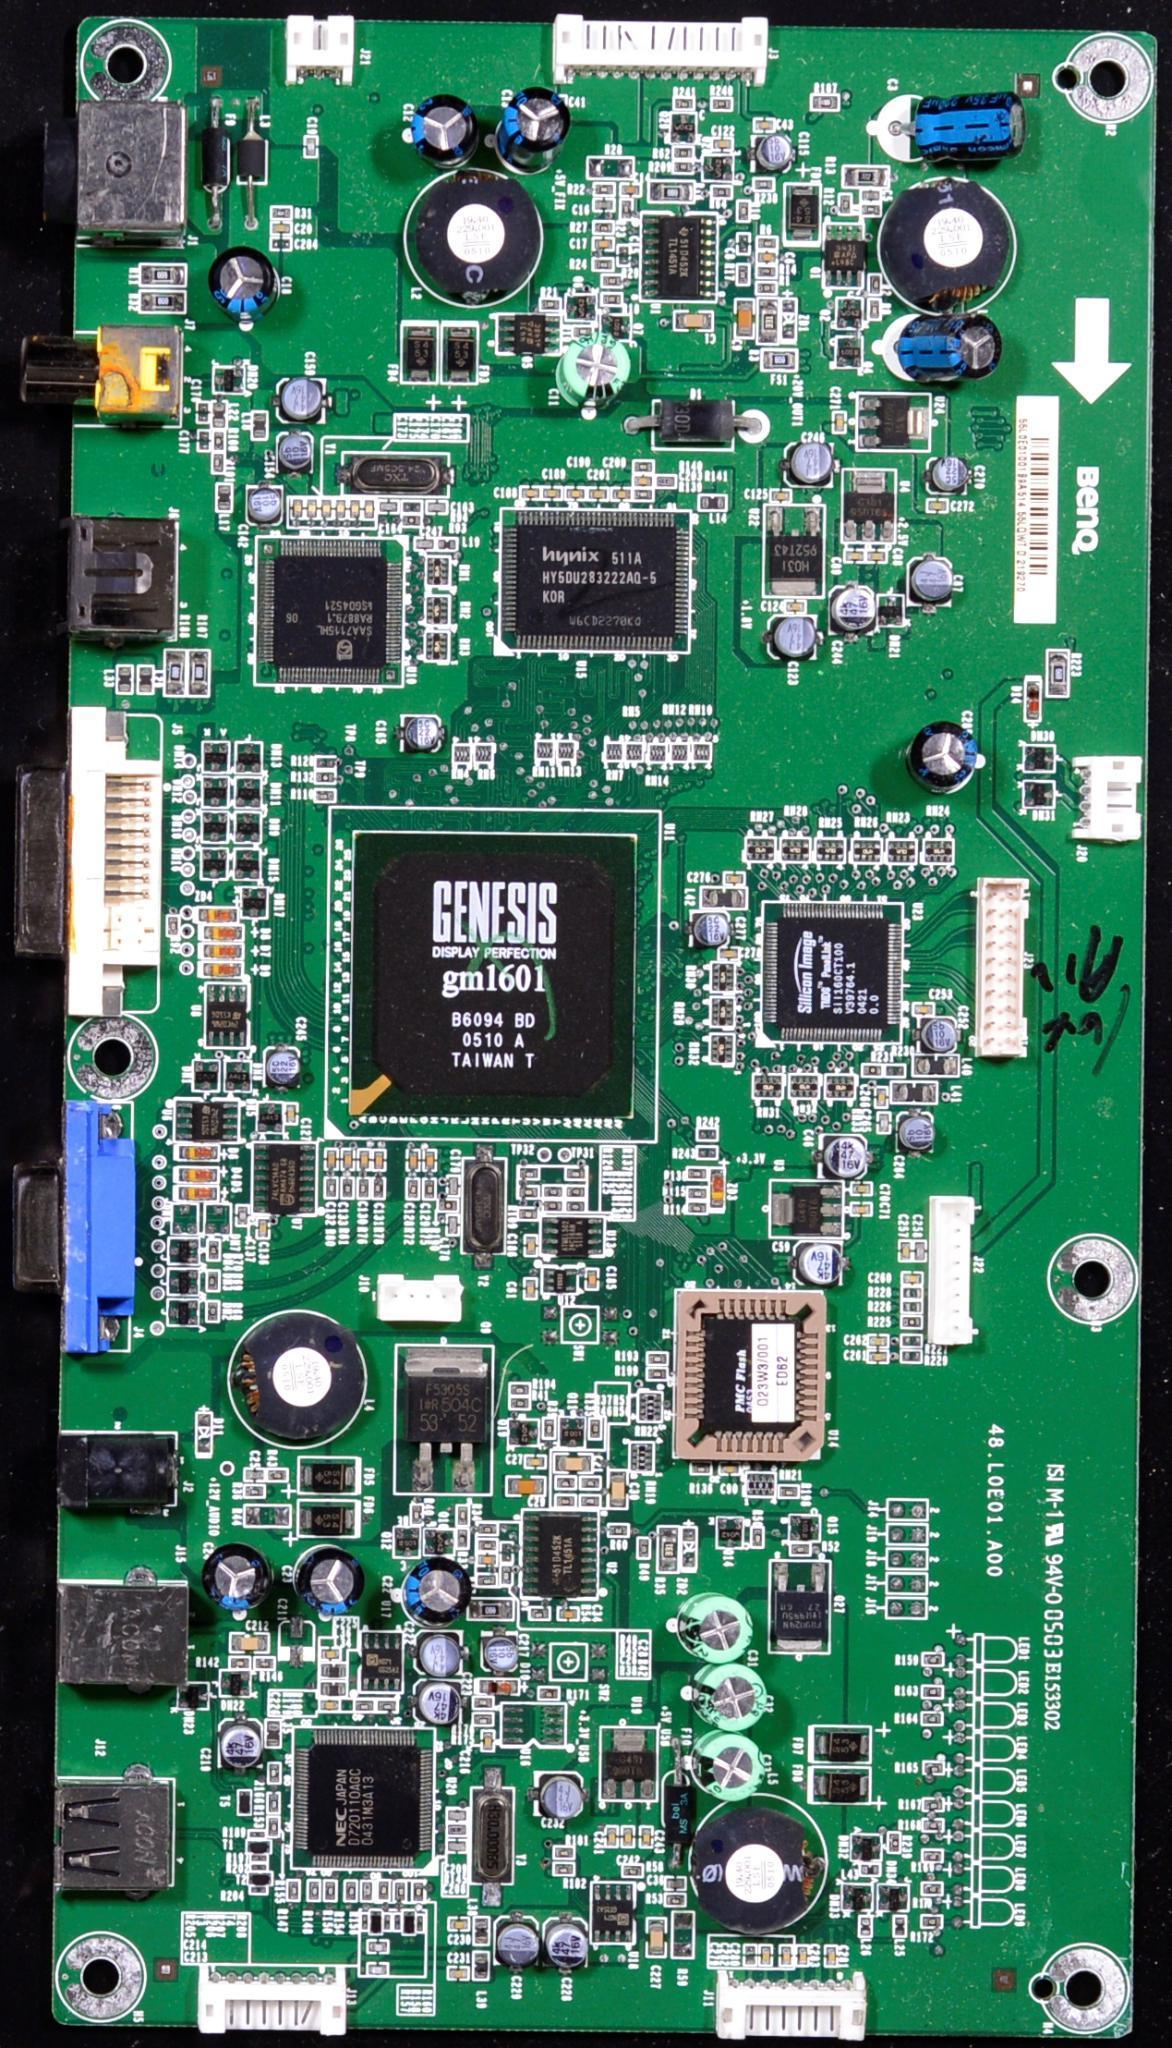Capacitor Jumper: (675, 311, 712, 331), (608, 1470, 626, 1508), (737, 301, 754, 340), (556, 1454, 592, 1471), (509, 1478, 543, 1495), (232, 1636, 267, 1651), (649, 1921, 664, 1957), (293, 1619, 302, 1667), (713, 136, 736, 151), (768, 489, 791, 504), (927, 499, 950, 513), (272, 238, 295, 250), (326, 1151, 340, 1172), (754, 120, 775, 134), (245, 1470, 267, 1483), (915, 1003, 934, 1017), (369, 1940, 388, 1954), (566, 487, 585, 501), (416, 537, 436, 551), (851, 1204, 872, 1217), (559, 1608, 580, 1620), (447, 1810, 469, 1823), (640, 1827, 653, 1848), (449, 1968, 470, 1980), (592, 238, 613, 250), (757, 252, 778, 264), (426, 502, 447, 515), (844, 551, 865, 564), (623, 1865, 642, 1879), (665, 1878, 684, 1892), (450, 1919, 469, 1933), (851, 1184, 871, 1197), (236, 1207, 249, 1227), (525, 1236, 537, 1256), (902, 1273, 922, 1286), (860, 190, 879, 203), (833, 414, 846, 433), (611, 488, 630, 501), (525, 1279, 536, 1300), (305, 136, 317, 158), (719, 1464, 740, 1476), (319, 1649, 340, 1660), (446, 1841, 467, 1852), (620, 184, 642, 196), (198, 404, 210, 425), (198, 432, 210, 453), (633, 475, 654, 487), (522, 487, 540, 499), (543, 487, 561, 499), (877, 1087, 888, 1107), (257, 1221, 269, 1241), (899, 1241, 910, 1260), (588, 1272, 599, 1291), (606, 1829, 618, 1848), (870, 551, 886, 564), (483, 1732, 492, 1753), (272, 224, 293, 233), (723, 873, 744, 883), (447, 1177, 459, 1196), (447, 1218, 459, 1236), (913, 1243, 924, 1262), (868, 1352, 886, 1363), (588, 488, 606, 499), (287, 1106, 297, 1125), (343, 1151, 353, 1170), (870, 1336, 889, 1346), (478, 1556, 498, 1566), (321, 1701, 340, 1710), (625, 1829, 635, 1848), (504, 1542, 512, 1564), (369, 1965, 386, 1976), (720, 949, 739, 959), (826, 1948, 836, 1966), (350, 499, 360, 518), (746, 1948, 756, 1965), (782, 1950, 792, 1966), (360, 1151, 369, 1169), (294, 499, 302, 518), (426, 1153, 435, 1170), (381, 504, 398, 512), (308, 502, 317, 519), (376, 1152, 383, 1172), (338, 501, 345, 520), (763, 1948, 770, 1966), (324, 499, 331, 516), (367, 504, 376, 518), (409, 1153, 416, 1169), (801, 1950, 806, 1965)
Connector: (70, 710, 165, 1017), (552, 15, 774, 84), (200, 1965, 349, 2040), (715, 1973, 864, 2044), (976, 876, 1030, 1058), (929, 1197, 982, 1346), (1074, 758, 1141, 840), (286, 14, 359, 84)
IC: (339, 826, 636, 1124), (502, 508, 689, 654), (256, 537, 404, 686), (295, 1729, 433, 1869), (765, 911, 888, 1037), (255, 1144, 315, 1215), (205, 982, 249, 1048), (177, 1100, 241, 1139), (363, 1632, 402, 1694)
Resistor Jumper: (674, 1913, 692, 1959), (248, 1509, 288, 1526), (687, 1186, 709, 1203), (810, 97, 840, 110), (633, 489, 656, 505), (556, 1477, 577, 1492), (900, 1303, 923, 1317), (696, 1148, 720, 1160), (477, 1539, 498, 1553), (594, 184, 615, 198), (537, 1687, 560, 1699), (877, 1113, 891, 1132), (205, 1301, 219, 1321), (673, 98, 696, 110), (673, 148, 696, 159), (711, 98, 732, 111), (884, 1066, 905, 1079), (696, 1129, 718, 1142), (357, 1179, 370, 1200), (267, 1470, 288, 1483), (779, 1485, 801, 1498), (554, 1494, 575, 1506), (355, 1701, 376, 1713), (267, 1795, 280, 1816), (272, 207, 293, 219), (756, 238, 777, 250), (592, 260, 613, 273), (737, 264, 750, 286), (756, 283, 777, 295), (212, 430, 225, 452), (656, 477, 677, 489), (903, 1288, 922, 1303), (692, 1461, 711, 1476), (685, 1167, 708, 1179), (374, 1177, 386, 1200), (687, 1203, 709, 1214), (902, 1352, 924, 1363), (317, 758, 339, 769), (423, 1179, 436, 1198), (207, 1272, 219, 1291), (207, 1303, 219, 1322), (902, 1317, 922, 1329), (649, 1353, 668, 1366), (791, 1544, 810, 1557), (267, 1817, 280, 1837), (447, 1824, 467, 1837), (840, 197, 853, 217), (736, 201, 749, 221), (757, 266, 777, 279), (317, 771, 336, 783), (408, 1179, 419, 1200), (900, 1336, 922, 1348), (582, 1497, 599, 1511), (476, 1523, 497, 1535), (476, 1575, 497, 1587), (378, 1701, 400, 1712), (270, 1764, 281, 1785), (602, 276, 623, 287), (602, 294, 623, 305), (501, 1566, 514, 1584), (675, 162, 694, 174), (924, 1914, 943, 1927), (167, 919, 179, 938), (590, 1418, 601, 1438), (255, 1658, 274, 1670), (473, 1698, 492, 1709), (889, 1833, 900, 1852), (923, 1851, 943, 1862), (212, 453, 224, 473), (528, 1456, 544, 1468), (343, 1179, 353, 1200), (210, 1241, 219, 1262), (543, 1418, 553, 1439), (640, 1539, 650, 1560), (864, 1065, 882, 1076), (511, 1385, 529, 1397), (530, 1608, 549, 1619), (754, 180, 772, 191), (288, 1881, 300, 1899), (595, 222, 613, 233), (635, 461, 653, 473), (317, 791, 335, 802), (328, 1179, 338, 1198), (647, 1369, 667, 1378), (580, 1478, 599, 1488), (609, 1528, 629, 1537), (231, 1658, 250, 1668), (924, 1687, 944, 1696), (473, 1715, 492, 1724), (511, 1398, 528, 1409), (924, 1764, 941, 1775), (924, 1800, 941, 1812), (440, 1200, 459, 1210), (544, 1203, 563, 1212), (567, 1203, 585, 1212), (924, 1656, 943, 1665), (922, 1715, 940, 1724), (924, 1822, 943, 1831), (554, 1865, 573, 1875), (310, 1882, 319, 1900), (713, 187, 732, 197), (326, 1883, 338, 1899), (544, 1189, 564, 1197), (568, 1187, 585, 1197), (245, 1488, 265, 1497), (556, 1848, 573, 1858), (923, 1885, 940, 1895), (378, 1883, 388, 1900), (348, 1883, 357, 1900), (395, 1883, 405, 1900), (414, 1885, 423, 1902), (567, 1170, 585, 1179), (252, 1854, 270, 1862), (250, 1888, 267, 1896), (363, 1885, 371, 1902), (521, 1210, 536, 1218), (521, 1189, 537, 1196), (250, 1831, 267, 1838), (253, 1862, 269, 1869), (523, 1172, 537, 1179), (363, 1914, 369, 1928), (384, 1917, 390, 1930), (395, 1916, 400, 1928), (421, 1916, 423, 1931)
Transistor: (765, 508, 822, 594), (768, 1182, 846, 1241), (602, 1726, 658, 1800), (860, 397, 927, 450), (843, 471, 893, 542), (824, 224, 862, 288), (497, 316, 559, 356), (542, 1267, 580, 1295), (841, 1883, 872, 1914), (877, 1885, 910, 1913), (851, 1836, 884, 1864), (789, 1513, 820, 1542), (167, 1239, 201, 1265), (566, 293, 595, 321), (671, 113, 696, 143), (167, 1270, 198, 1295), (839, 338, 864, 369), (718, 1516, 741, 1549), (837, 298, 862, 328), (604, 315, 633, 340), (241, 889, 266, 919), (194, 1061, 218, 1092), (167, 1301, 198, 1325), (560, 1416, 584, 1447), (878, 595, 900, 627), (225, 1063, 250, 1092), (509, 1419, 537, 1445), (236, 779, 262, 807), (203, 814, 227, 843), (203, 850, 227, 878), (236, 850, 260, 878), (204, 779, 228, 806), (259, 1104, 281, 1132), (235, 814, 257, 843), (238, 745, 262, 771), (205, 744, 228, 769)
